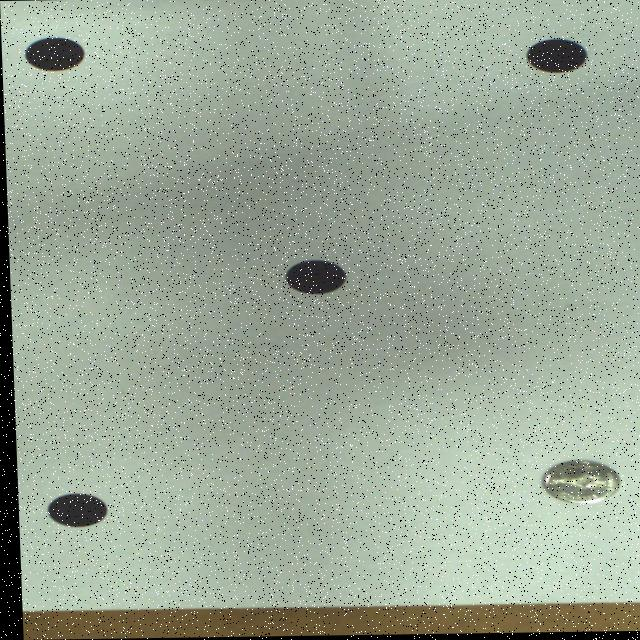space: (25, 36, 85, 70), (283, 260, 343, 294), (43, 492, 103, 526), (526, 40, 585, 74)
tail1bath: (538, 461, 615, 505)
